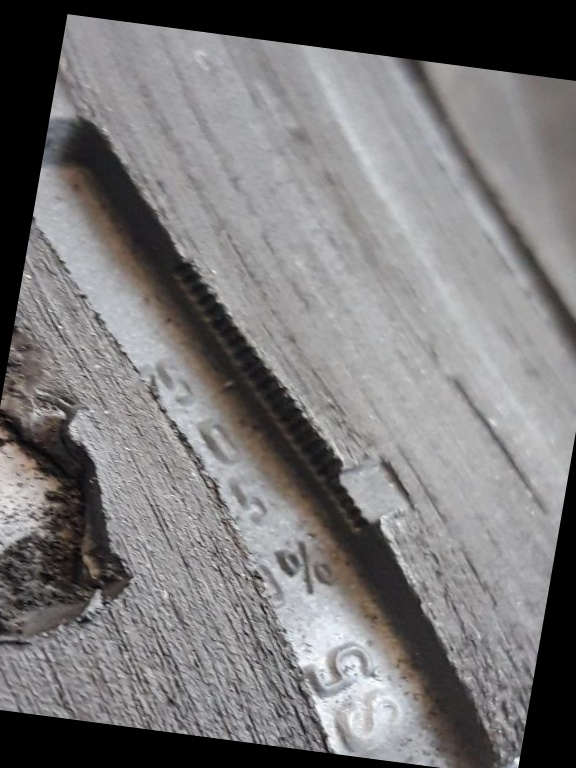temoin:0: (294, 417, 441, 556)
